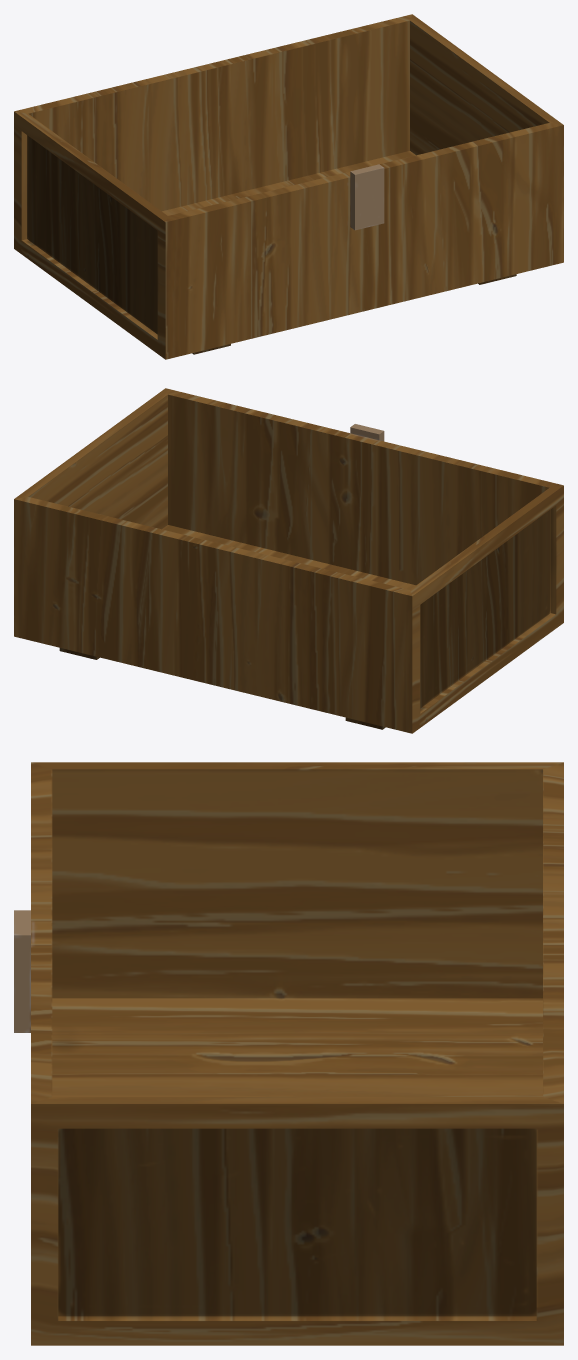
File: Crate_1.glb
3 renders of one model, top to bottom at view 1: azimuth 30°, elevation 25°; view 2: azimuth 150°, elevation 25°; view 3: azimuth 270°, elevation 25°, orthographic. The views are drawn at different scales.
Parts seen in each view (by area): view 1: Crate_geo; view 2: Crate_geo; view 3: Crate_geo.
Boxes of the visible parts, x1=… form: Crate_geo: x1=14, y1=14, x2=563, y2=359; Crate_geo: x1=14, y1=388, x2=563, y2=733; Crate_geo: x1=14, y1=762, x2=563, y2=1345.
Size of the model in its own units: 0.6517 by 0.2418 by 0.4433.
1 material, 1 textured.
